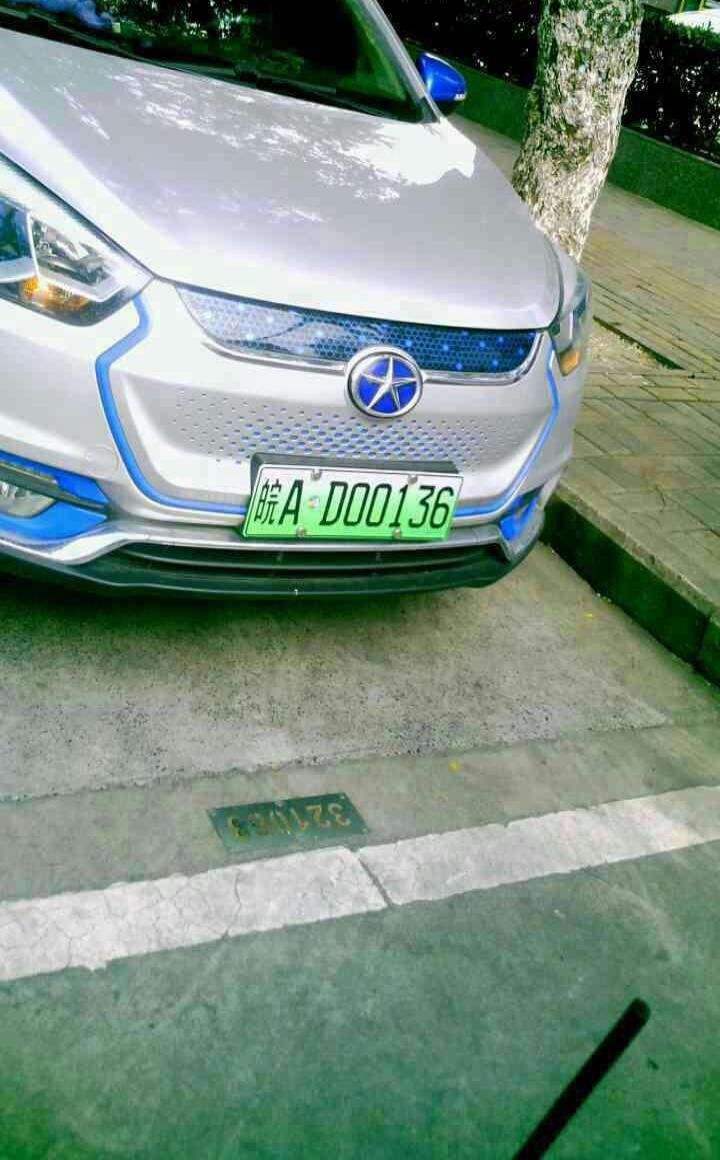car_id: (246, 471, 462, 547)
